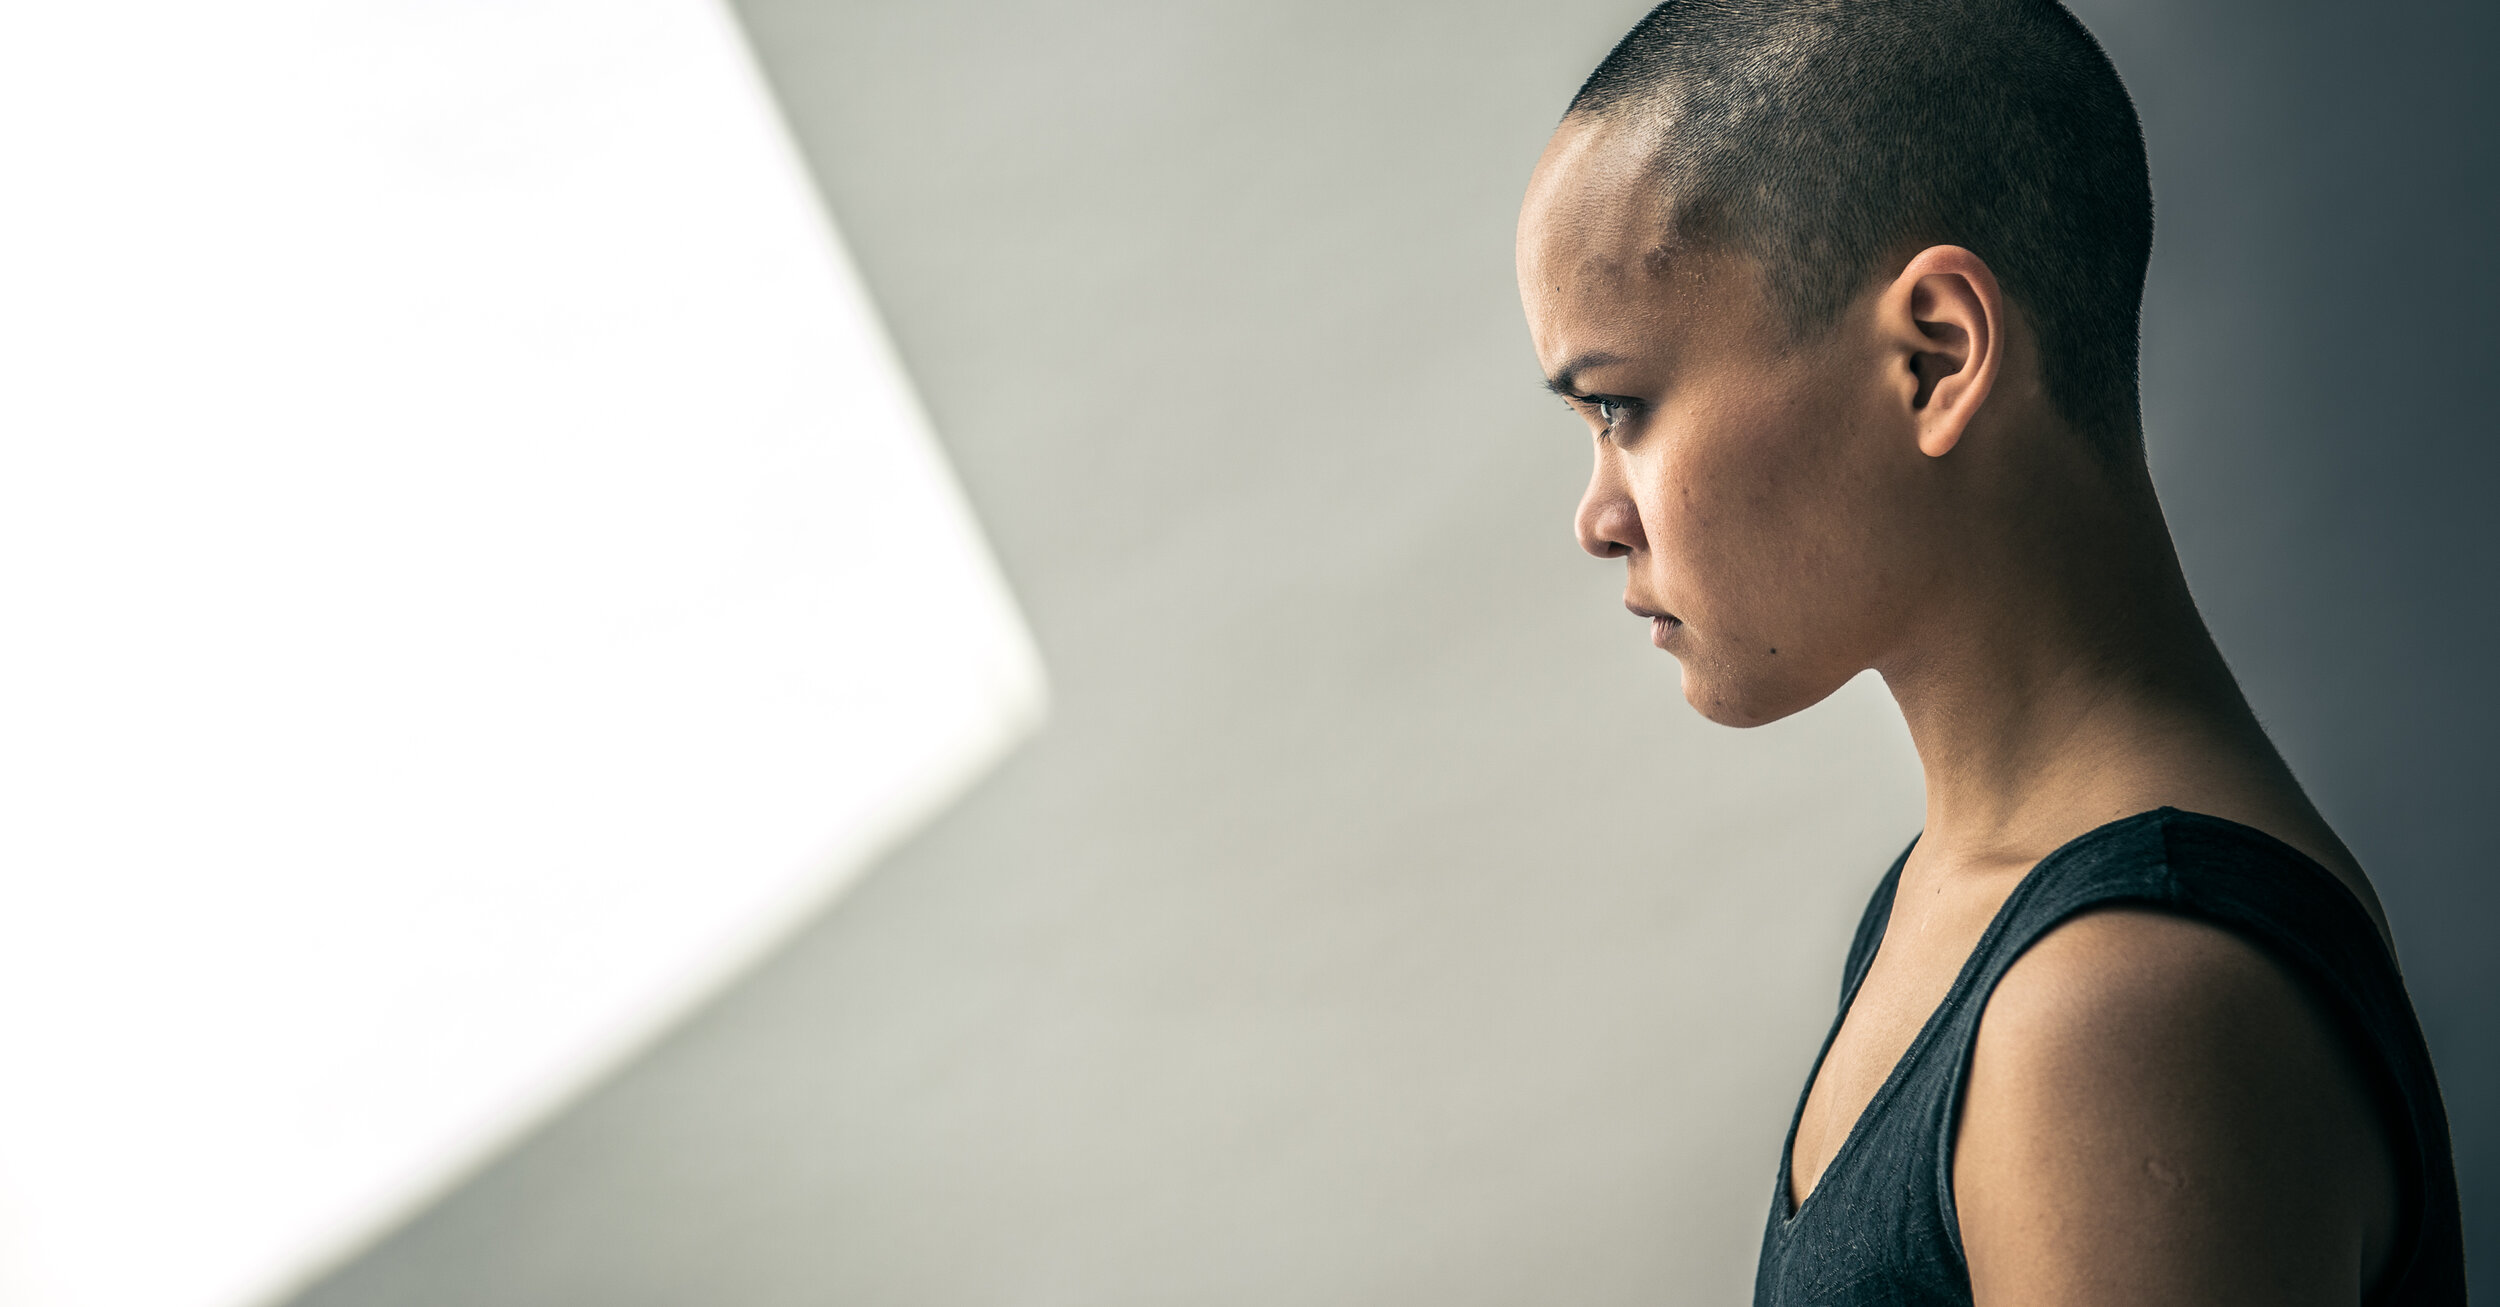person: (1462, 15, 2469, 1307)
